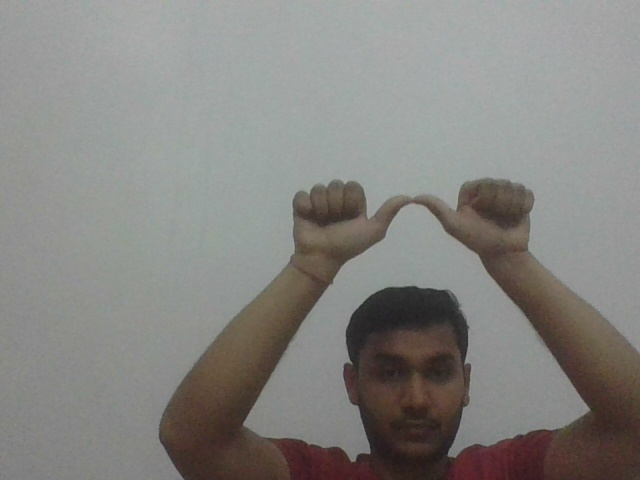A: (286, 177, 538, 252)
